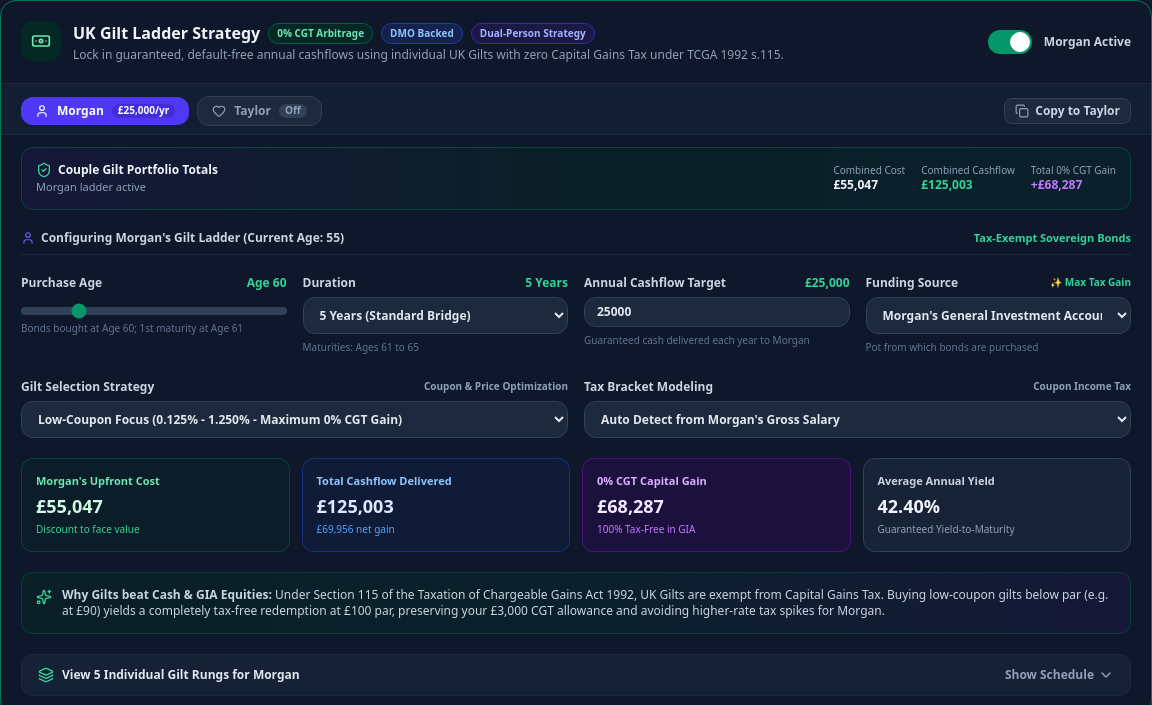
GiltLadderCard › supports couple planning dual-person ladders and mirror settings copy
Expected: the button with id "gilt_ladder_select_primary_tab" is shown, [21, 97, 189, 125]
Expected: the button with id "gilt_ladder_select_partner_tab" is shown, [197, 96, 322, 126]
Copy Morgan's settings to Taylor
Click the button "Copy to Taylor".
click(1068, 111)  # box [1004, 98, 1131, 124]
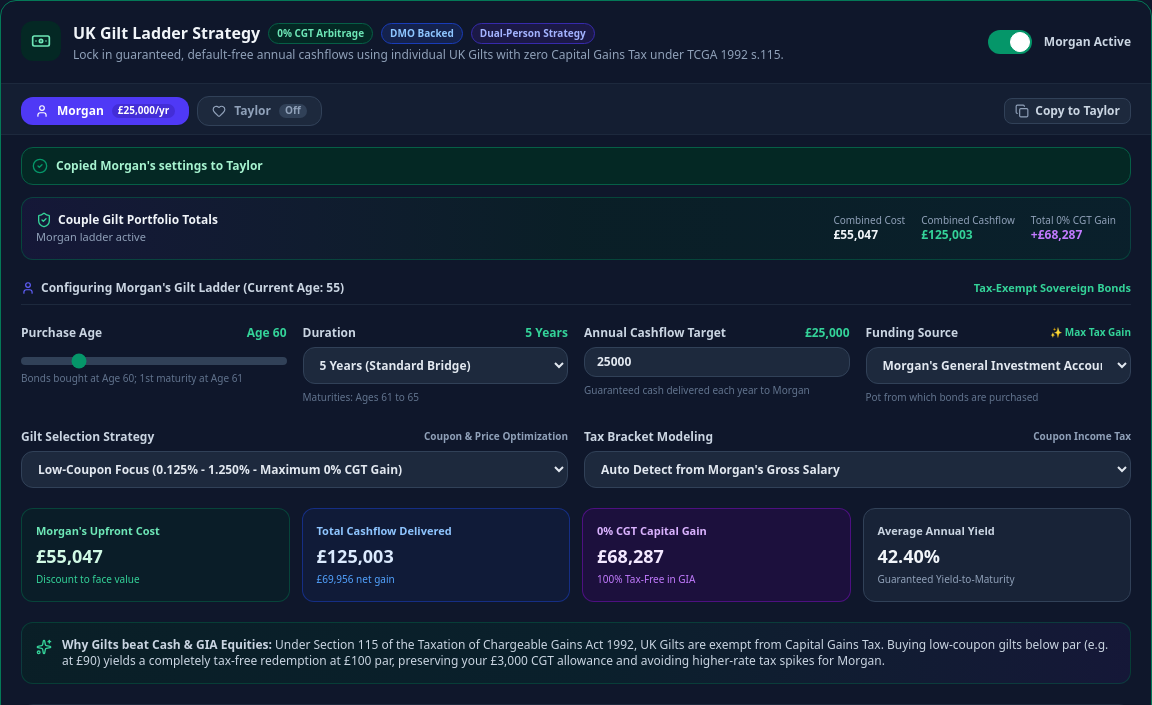
Switch to Partner tab
Click the button with id "gilt_ladder_select_partner_tab".
click(259, 111)  # box [197, 96, 322, 126]
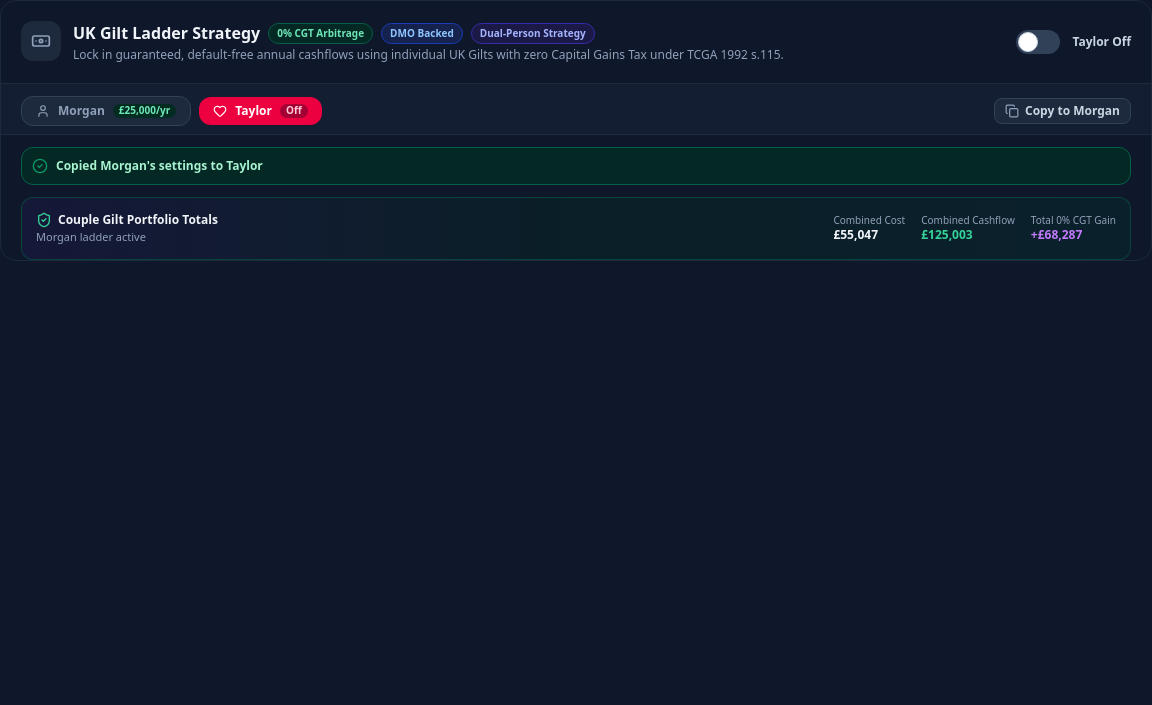
Result: the text "Taylor Off" is shown at [1072, 34, 1131, 50]
